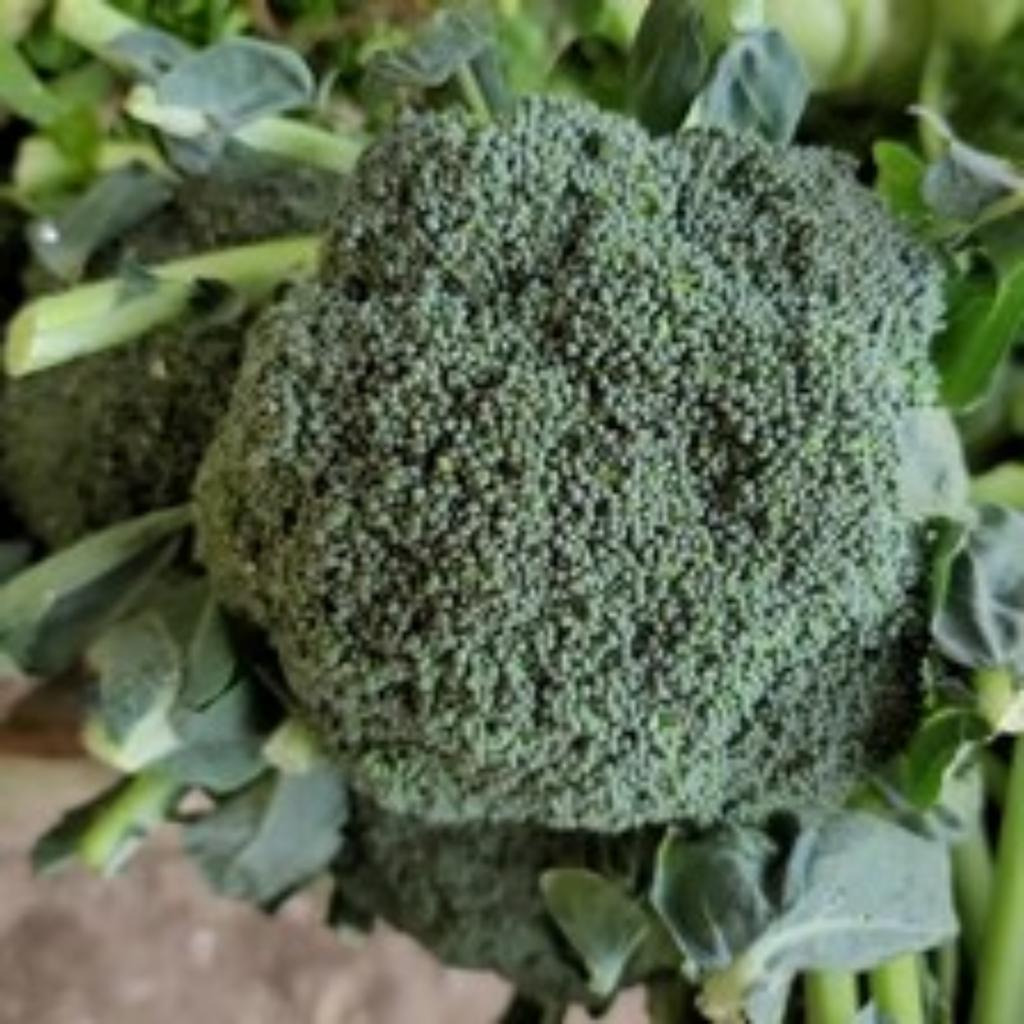Broccoli: (196, 100, 938, 829), (196, 100, 938, 829)
